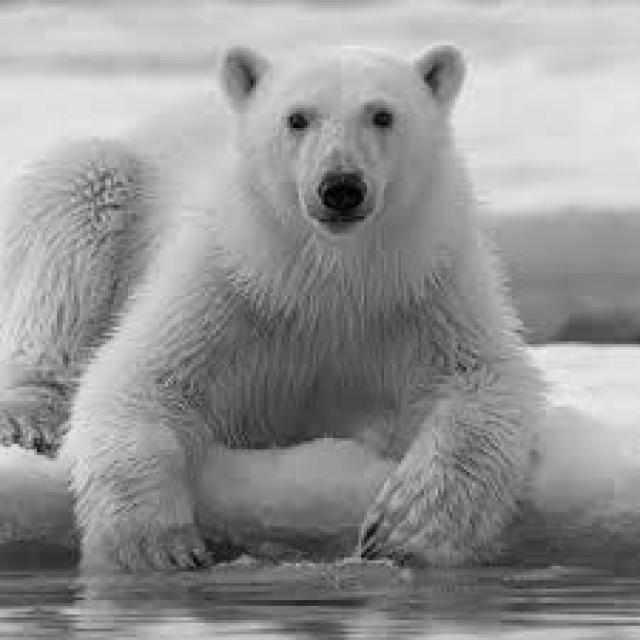Bear: (41, 34, 537, 554)
